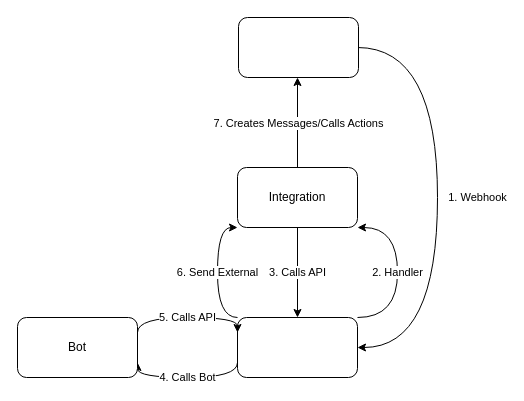
This 524x401 diagram has some shape labels left out. The shapes that lost their labels are listed below. From the top down, each one's centre as x and y in pixels, then its label:
pixel 298 47: External System (Slack)
pixel 297 347: Platform API
